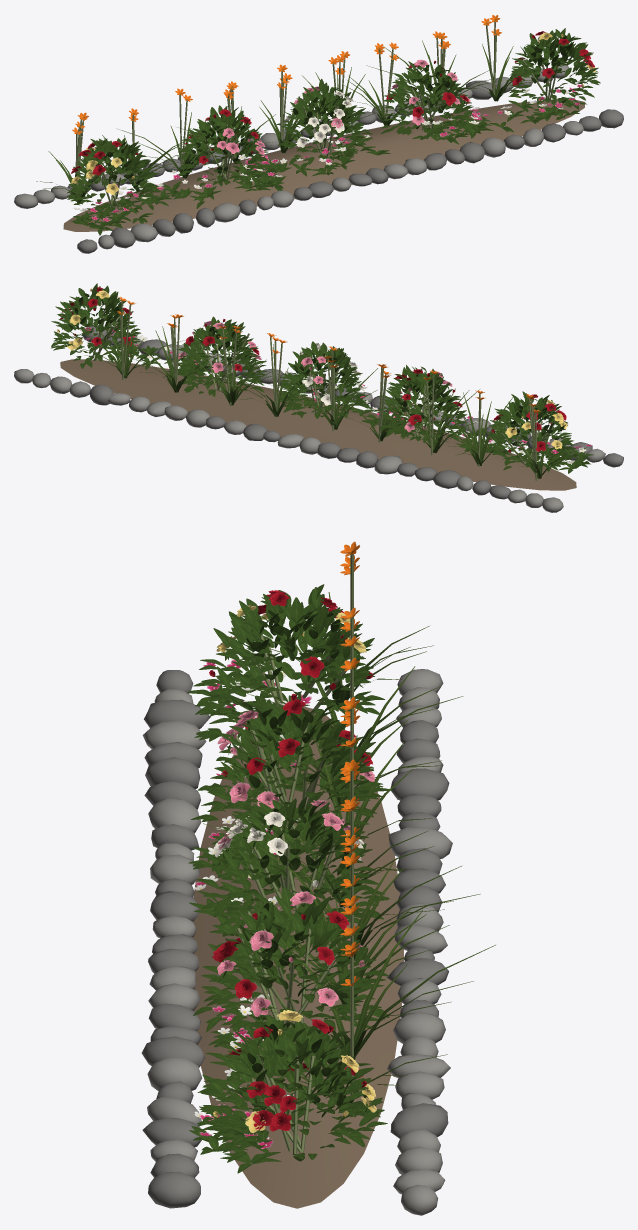
The model's file is yh_huajing.glb.
3 views of the same model, one above another, from view 1: azimuth 30°, elevation 25°; view 2: azimuth 150°, elevation 25°; view 3: azimuth 270°, elevation 25° (orthographic). The views are drawn at different scales.
Parts seen in each view (by area): view 1: yh_huajing_花叶, yh_huajing_土, yh_huajing_卵石深, yh_huajing_卵石, yh_huajing_茎; view 2: yh_huajing_花叶, yh_huajing_土, yh_huajing_卵石, yh_huajing_卵石深, yh_huajing_茎; view 3: yh_huajing_花叶, yh_huajing_卵石深, yh_huajing_土, yh_huajing_卵石, yh_huajing_茎.
Boxes of the visible parts, <box> form: yh_huajing_花叶: <box>36,15,600,235</box>; yh_huajing_土: <box>63,99,585,231</box>; yh_huajing_卵石深: <box>67,80,623,253</box>; yh_huajing_卵石: <box>14,64,583,249</box>; yh_huajing_茎: <box>75,21,558,208</box>; yh_huajing_花叶: <box>51,283,593,478</box>; yh_huajing_土: <box>60,359,576,490</box>; yh_huajing_卵石: <box>14,336,605,512</box>; yh_huajing_卵石深: <box>82,325,623,499</box>; yh_huajing_茎: <box>92,301,554,480</box>; yh_huajing_花叶: <box>187,541,495,1173</box>; yh_huajing_卵石深: <box>141,670,449,1208</box>; yh_huajing_土: <box>193,706,404,1208</box>; yh_huajing_卵石: <box>142,669,452,1215</box>; yh_huajing_茎: <box>231,554,353,1155</box>.
Size of the model in its own units: 5.86 by 0.9999 by 1.63.
Materials: 5 (1 with a texture image).
